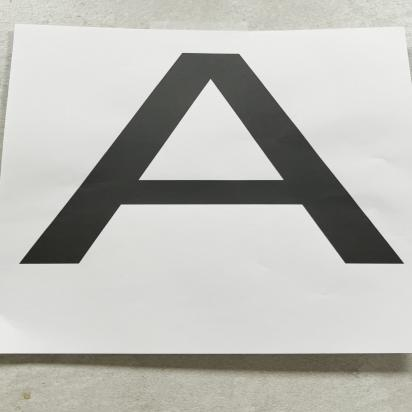seat: (23, 48, 412, 278)
